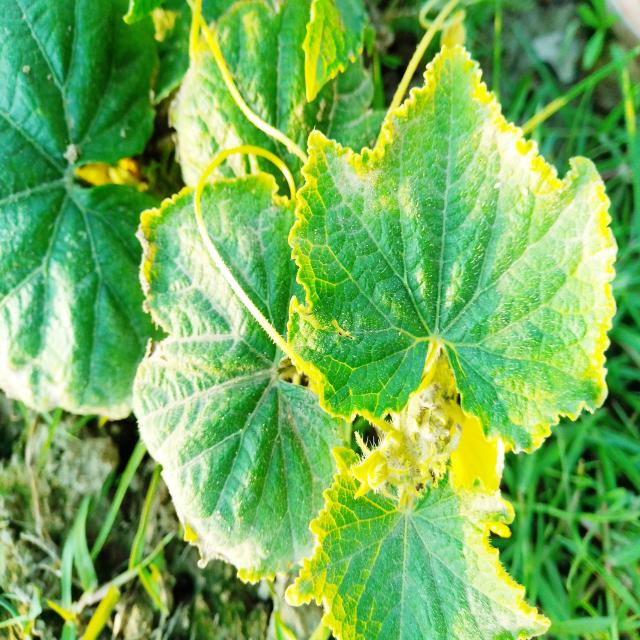Fresh-Leaf: (284, 35, 620, 461), (281, 445, 552, 640)
